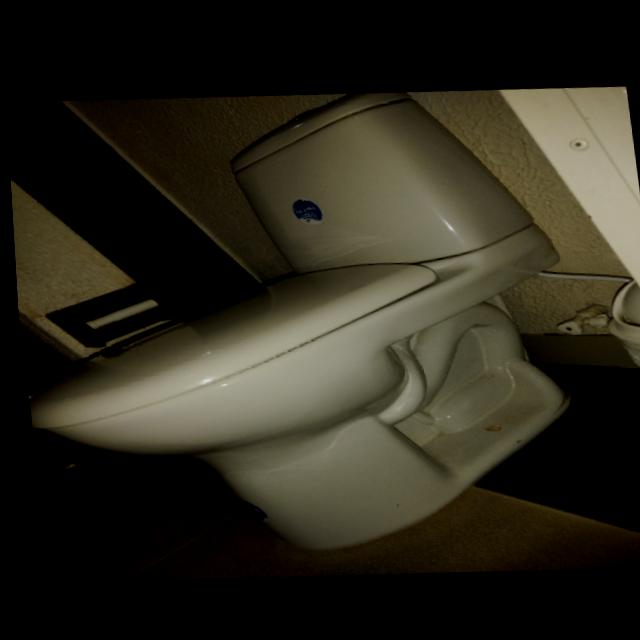toilet: (3, 63, 593, 577)
